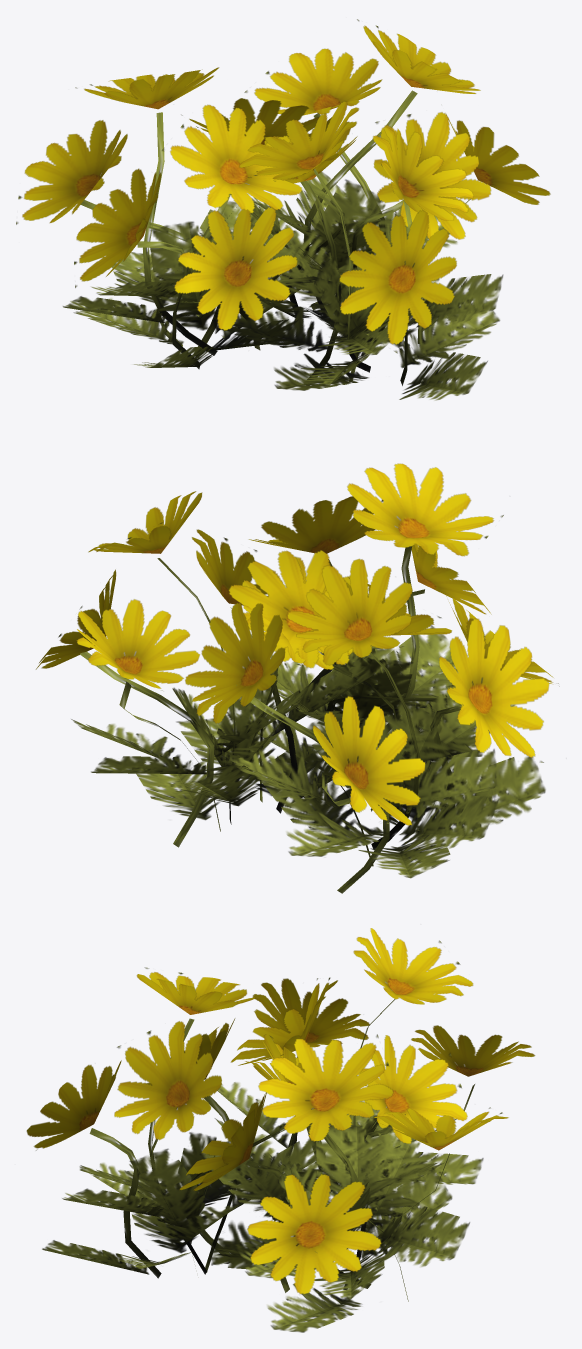
Rendered from bush-flower.glb.
3 views of the same model, one above another, from view 1: azimuth 30°, elevation 25°; view 2: azimuth 150°, elevation 25°; view 3: azimuth 270°, elevation 25° (orthographic). The views are drawn at different scales.
Visible parts, largest first — view 1: Flower_1_0; view 2: Flower_1_0; view 3: Flower_1_0.
Boxes of the visible parts, x1=… form: Flower_1_0: x1=16, y1=19, x2=550, y2=400; Flower_1_0: x1=36, y1=463, x2=559, y2=893; Flower_1_0: x1=26, y1=928, x2=535, y2=1332.
Bounding box in the file's own units: 0.9644 × 0.59 × 0.9513.
Materials: 1 (1 with a texture image).
